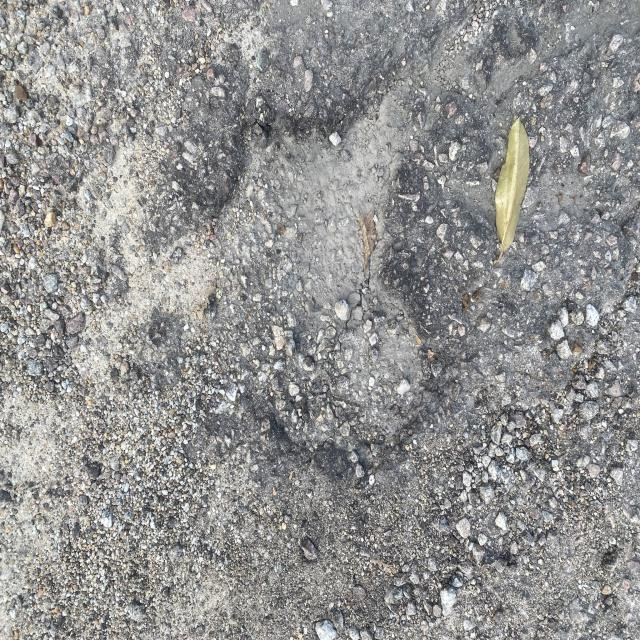pothole: (132, 59, 461, 498)
